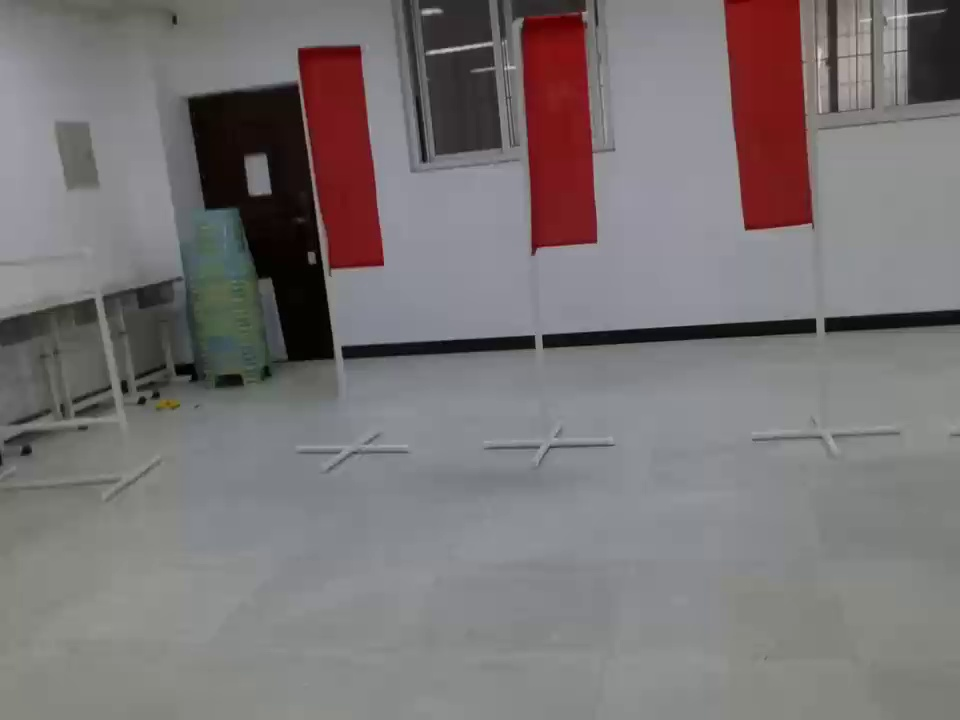qi: (718, 1, 817, 259), (284, 39, 384, 272), (509, 15, 599, 269)
